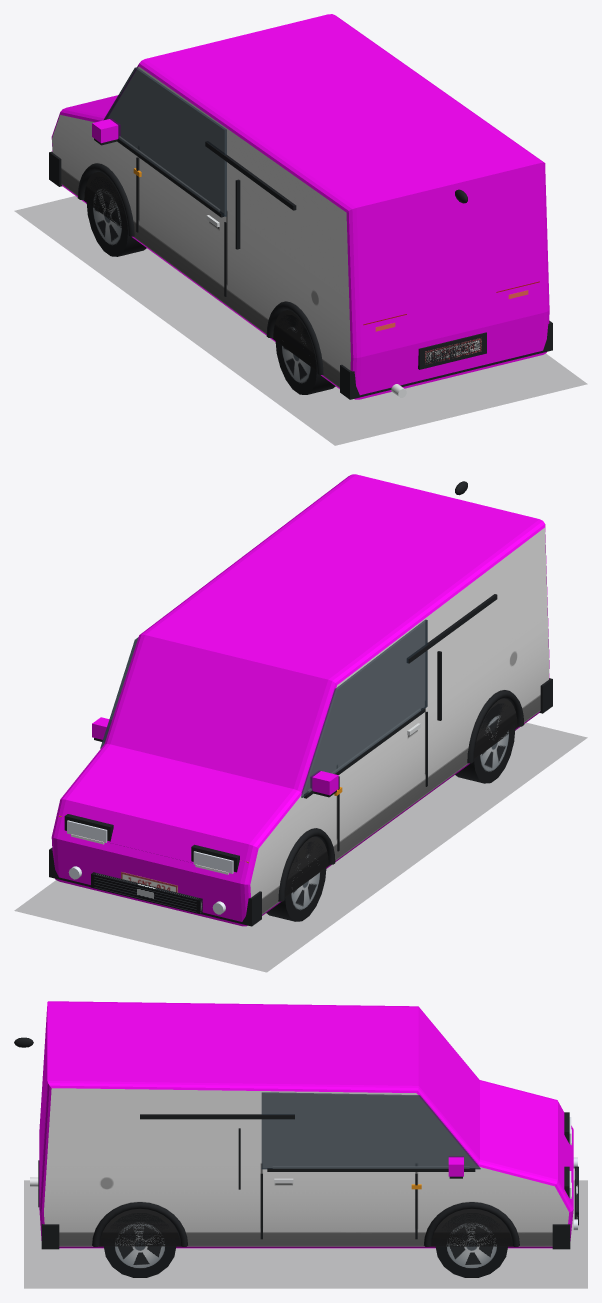
File: car-van.obj
The picture shows the model from 3 angles, top to bottom: view 1: azimuth 30°, elevation 25°; view 2: azimuth 150°, elevation 25°; view 3: azimuth 270°, elevation 25°; orthographic projection. The views are drawn at different scales.
Parts seen in each view (by area): view 1: body, shadowpad.nocast, part1.nocast, part9, part10, part56.nocast, part31, part42.nocast, part41.nocast, part40.nocast, part20, part33.nocast; view 2: body, shadowpad.nocast, part1.nocast, part10, part51.nocast, part9, part42.nocast, part41.nocast, part30, part40.nocast; view 3: body, shadowpad.nocast, part1.nocast, part12, part11, part43.nocast, part44.nocast, part39.nocast, part8.nocast, part50.nocast, part30, part31.
Part boxes in pixels (x1,y1,x2,y2): body: (51,14,549,399); shadowpad.nocast: (15,196,586,445); part1.nocast: (103,67,226,216); part9: (86,177,146,256); part10: (275,314,335,394); part56.nocast: (418,332,486,369); part31: (340,320,552,399); part42.nocast: (266,301,323,374); part41.nocast: (77,163,134,236); part40.nocast: (205,141,296,210); part20: (92,118,120,143); part33.nocast: (425,338,481,363); body: (51,474,549,926); shadowpad.nocast: (15,723,586,971); part1.nocast: (100,619,427,797); part10: (455,703,515,783); part51.nocast: (91,872,202,913); part9: (266,841,326,921); part42.nocast: (467,690,524,763); part41.nocast: (278,828,335,901); part30: (49,848,261,926); part40.nocast: (407,594,497,663); body: (39,1001,573,1248); shadowpad.nocast: (24,1180,587,1288); part1.nocast: (261,1092,480,1169); part12: (103,1213,176,1277); part11: (435,1213,508,1277); part43.nocast: (423,1202,519,1246); part44.nocast: (92,1202,187,1246); part39.nocast: (140,1114,294,1119); part8.nocast: (267,1168,475,1171); part50.nocast: (273,1166,469,1168); part30: (552,1224,570,1249); part31: (41,1224,59,1249).
Size of the model in its own units: 2.32 by 1.98 by 5.19.
